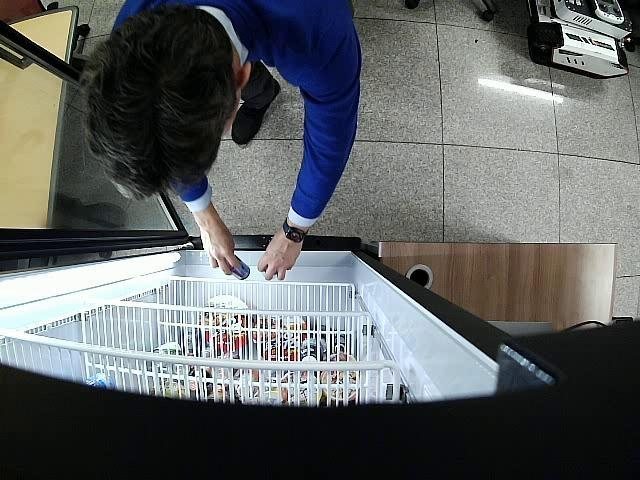16_hot6: (228, 255, 250, 279)
